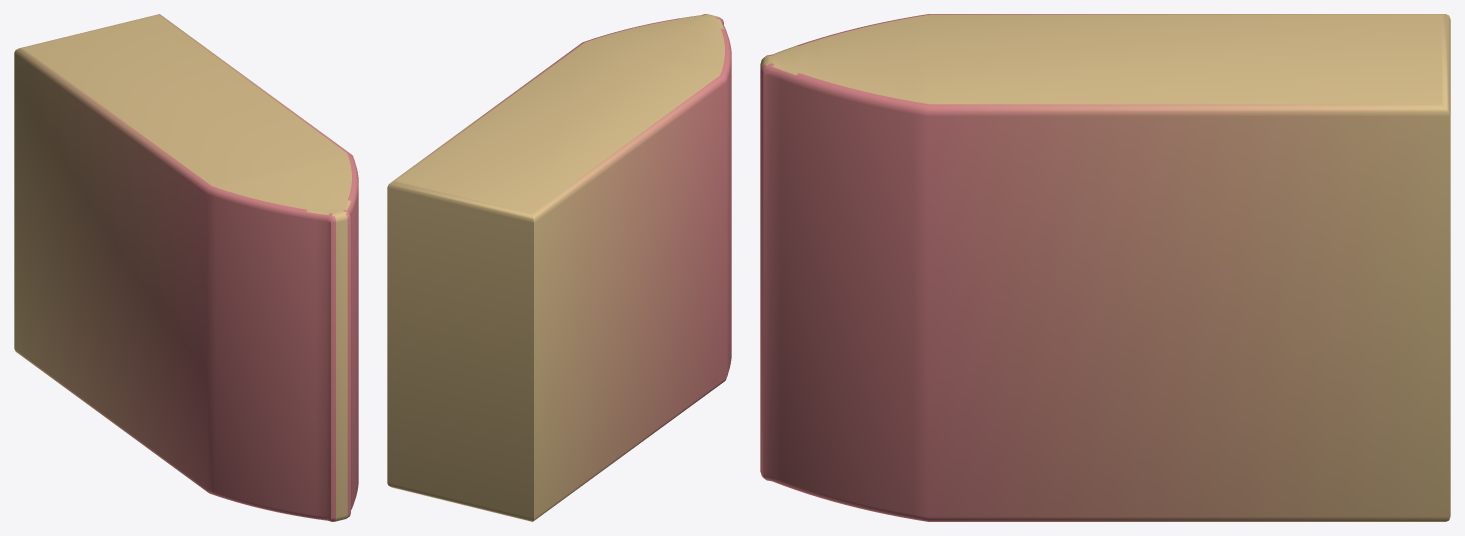
Rendered from Kit_Lock_Latchbolt_Bored_Brass_DA.fbx.
3 renders of one model, left to right at view 1: azimuth 30°, elevation 25°; view 2: azimuth 150°, elevation 25°; view 3: azimuth 270°, elevation 25°, orthographic. The views are drawn at different scales.
Visible parts, largest first — view 1: Kit_Lock_Latchbolt_Bored_DA_LOD0; view 2: Kit_Lock_Latchbolt_Bored_DA_LOD0; view 3: Kit_Lock_Latchbolt_Bored_DA_LOD0.
Part boxes in pixels (bbox=[...]): Kit_Lock_Latchbolt_Bored_DA_LOD0: bbox=[14, 14, 358, 521]; Kit_Lock_Latchbolt_Bored_DA_LOD0: bbox=[387, 14, 731, 521]; Kit_Lock_Latchbolt_Bored_DA_LOD0: bbox=[760, 14, 1450, 521].
Size of what is drawn, in the model's own units: 0.01 by 0.02 by 0.03.
